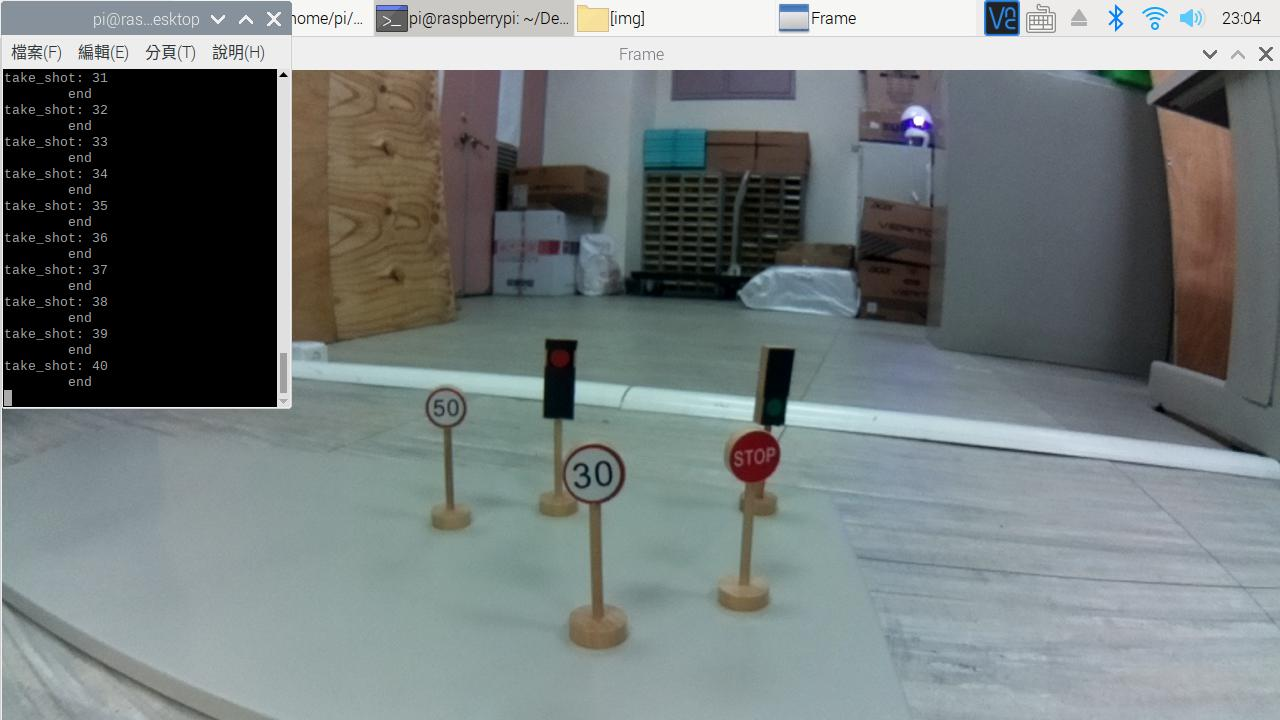Green: (758, 346, 790, 429)
Red: (545, 336, 574, 414)
Speed30: (558, 452, 627, 503)
Speed50: (425, 388, 467, 430)
Stop: (724, 429, 789, 487)
